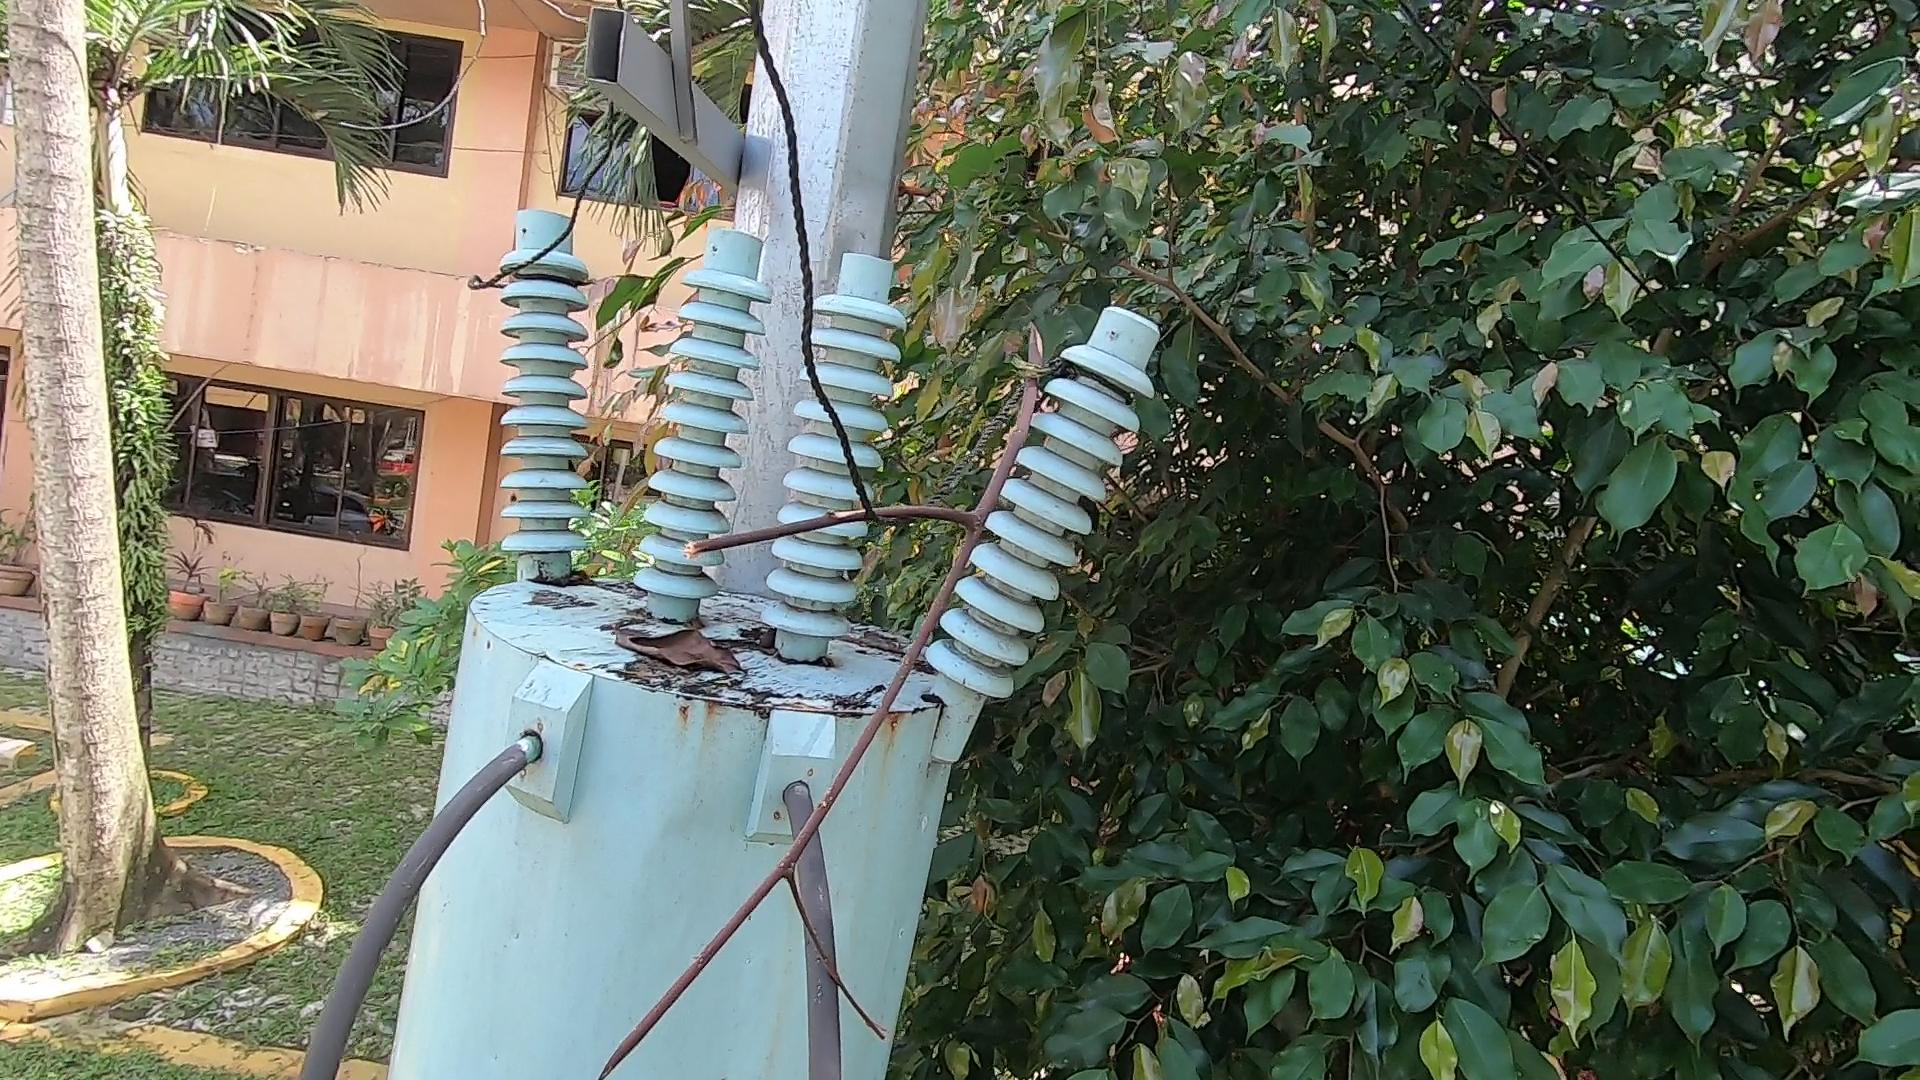leaf: (607, 622, 749, 698)
tree branch: (574, 314, 1083, 1071)
